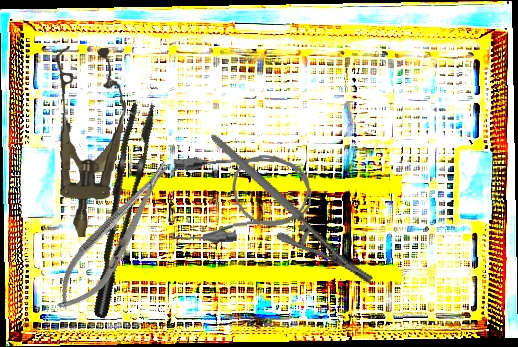Cannula: (164, 150, 314, 246)
Needle Holder: (209, 99, 376, 318), (44, 151, 185, 322)
Speculum: (44, 45, 129, 239)
Tissue Forceps: (63, 98, 177, 320)
